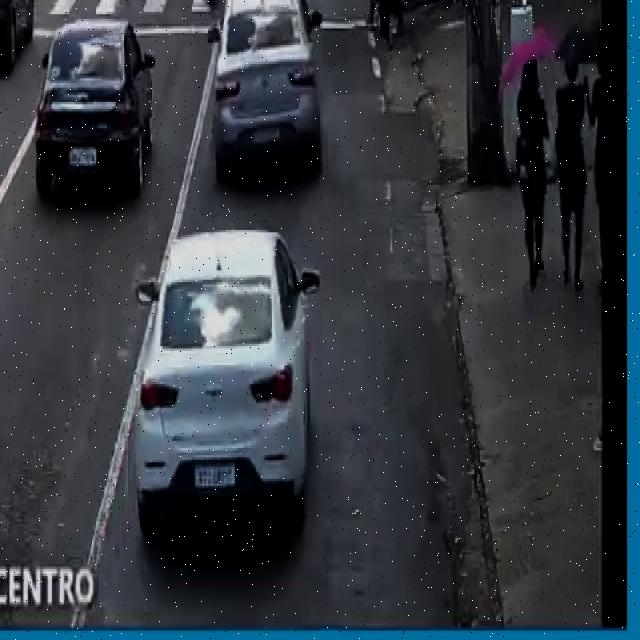biker: (358, 0, 416, 40), (189, 0, 224, 19)
car: (136, 230, 312, 534), (27, 15, 157, 195), (200, 0, 325, 173), (0, 0, 37, 76)
people: (509, 53, 554, 292), (551, 38, 591, 302), (576, 0, 602, 9)
